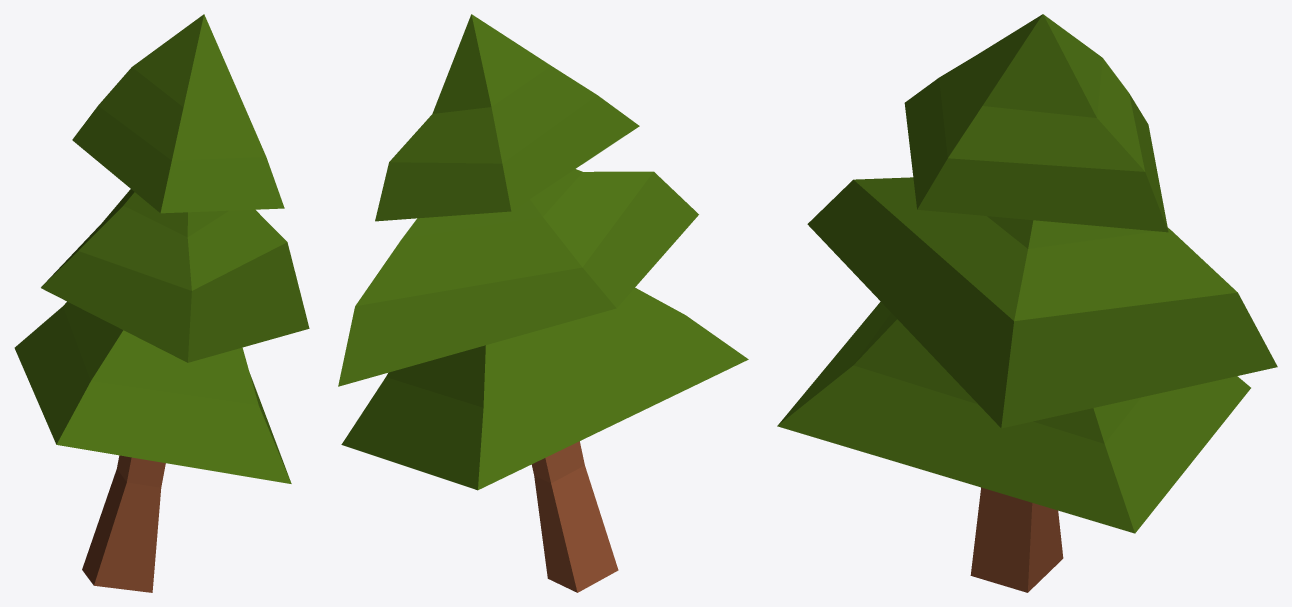
Rendered from tree-small.gltf.
3 renders of one model, left to right at view 1: azimuth 30°, elevation 25°; view 2: azimuth 150°, elevation 25°; view 3: azimuth 270°, elevation 25°, orthographic. The views are drawn at different scales.
Parts seen in each view (by area): view 1: three-small; view 2: three-small; view 3: three-small.
Part boxes in pixels (box(x1,y1,x2,y2)): three-small: box(14, 14, 309, 592); three-small: box(338, 14, 748, 592); three-small: box(777, 14, 1277, 592).
Size of the model in its own units: 1.1 by 1.91 by 1.41.
